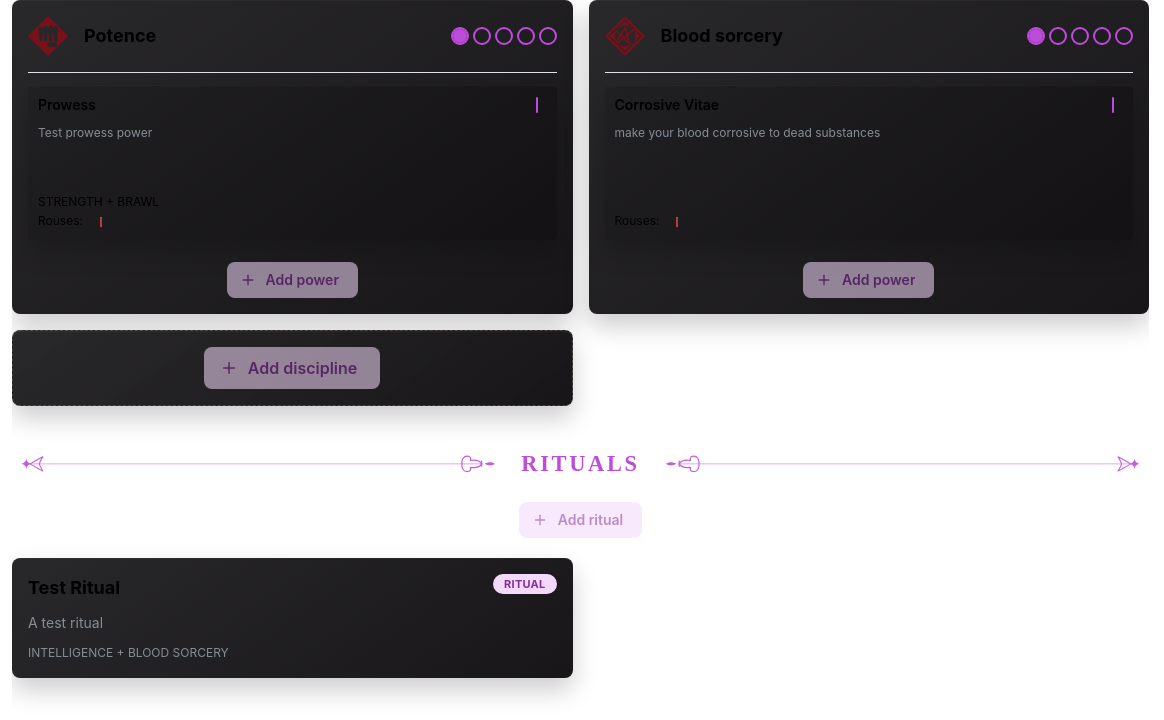
it: blocked discipline purchase feedback › keeps an unaffordable power add clickable and explains the block
Click the button "Add power" below "STRENGTH + BRAWL".
click(292, 280)  # box x1=226 y1=262 x2=358 y2=298
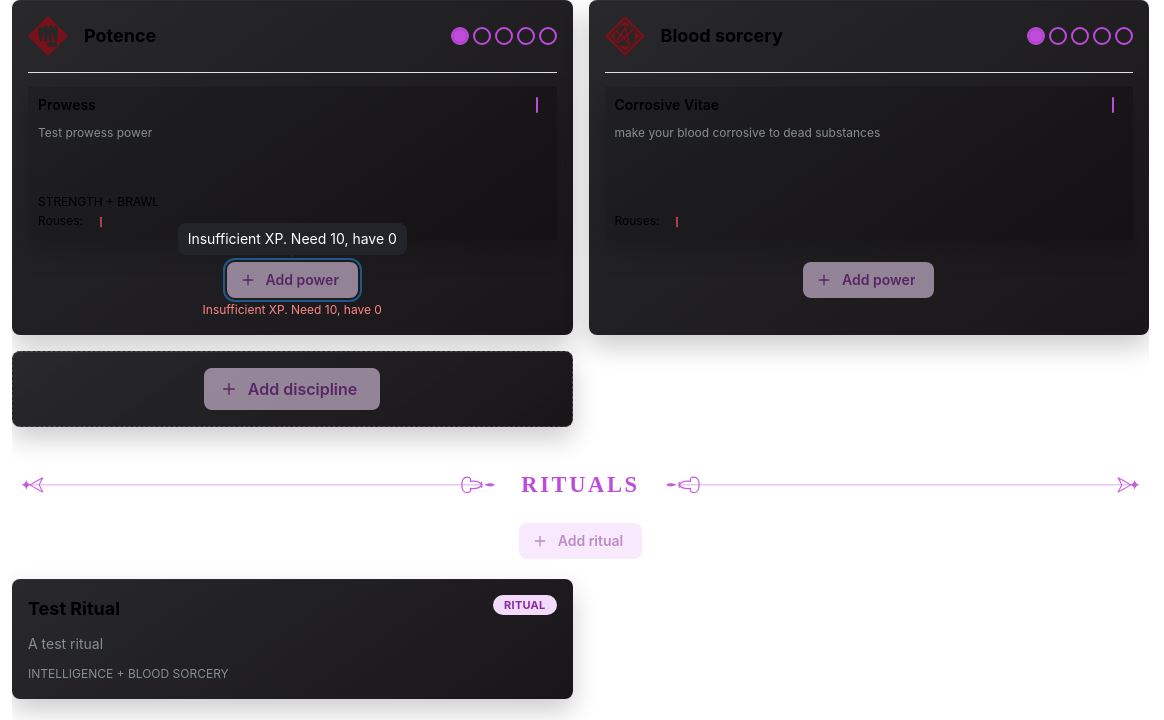
Now the message shows "Insufficient XP", box x1=203 y1=302 x2=382 y2=317
